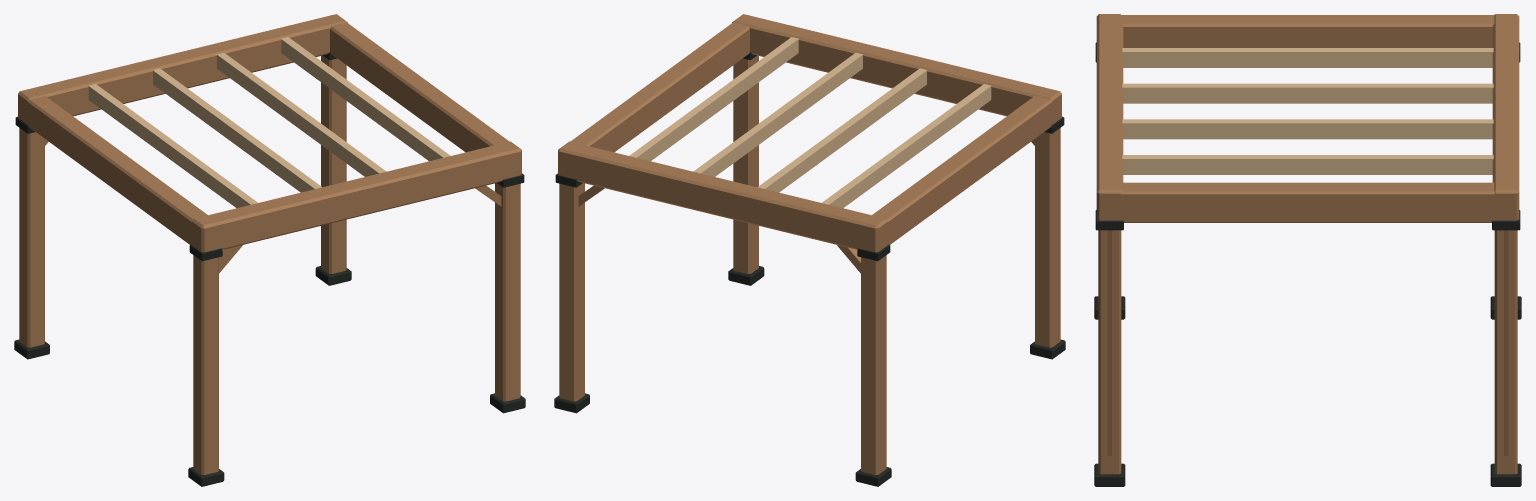
File: gh_timber_frame_v01.glb
3 views of the same model, side by side, from view 1: azimuth 30°, elevation 25°; view 2: azimuth 150°, elevation 25°; view 3: azimuth 270°, elevation 25° (orthographic). The views are drawn at different scales.
Visible parts, largest first — view 1: Exposed timber structure; view 2: Exposed timber structure; view 3: Exposed timber structure.
Part boxes in pixels (box(x1,y1,x2,y2)): Exposed timber structure: box(14, 14, 525, 486); Exposed timber structure: box(554, 14, 1065, 486); Exposed timber structure: box(1094, 14, 1521, 486).
Size of the model in its own units: 6.08 by 4.64 by 6.08.
Materials: 1 (1 with a texture image).
